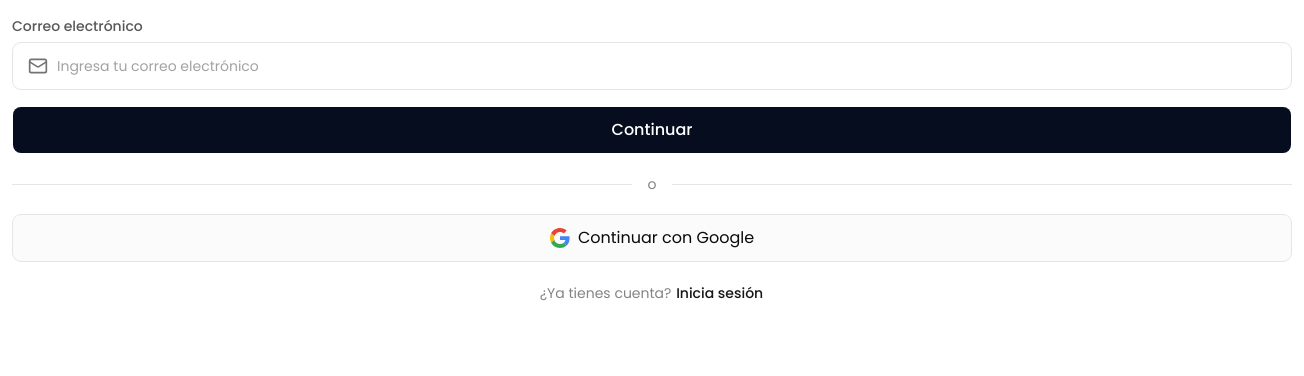
Test: submitting › the second step can go back to fix a mistyped address
The image size is (1304, 376).
Type "ana@ejemplo.com" into the field labelled "Correo electrónico" at (652, 66), box [12,42,1292,90]
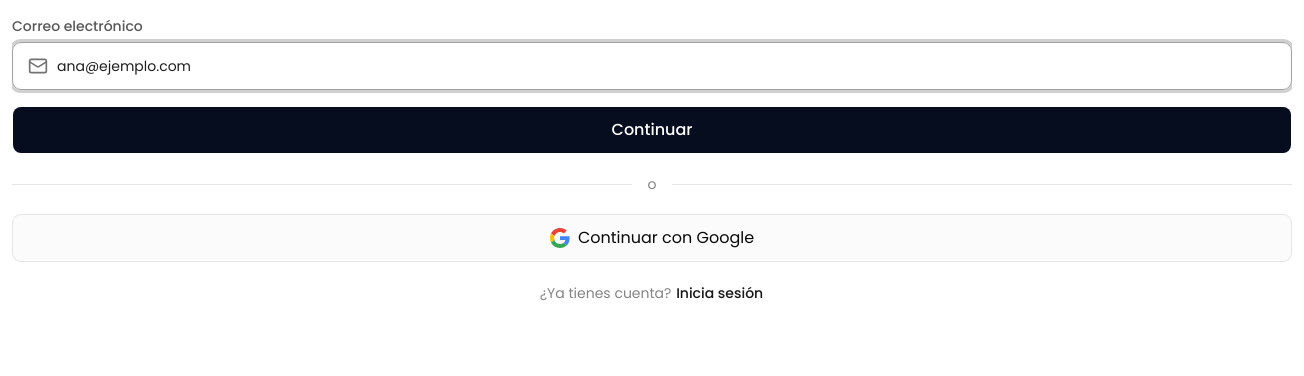
Click the button "Continuar" at (652, 130), box [12,106,1292,154]
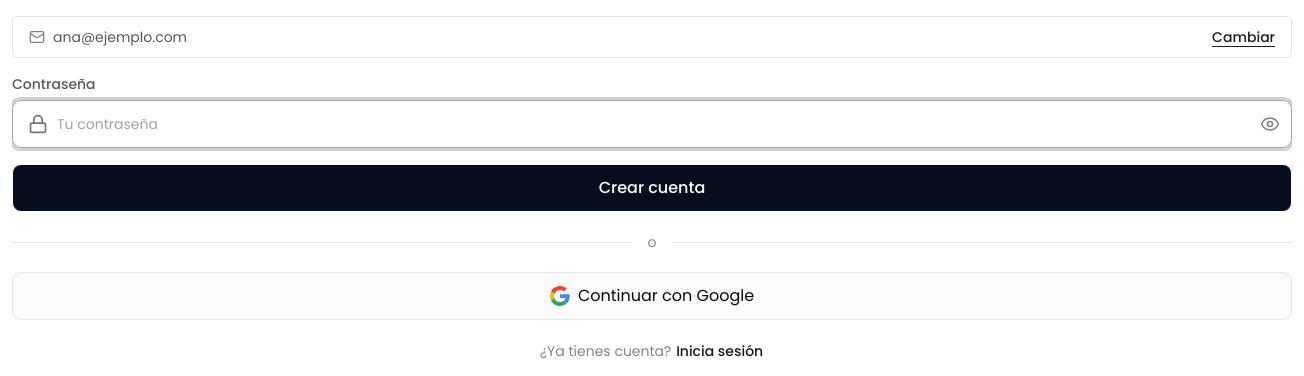
Click the button "Cambiar" at (1244, 37), box [1212,27,1275,47]
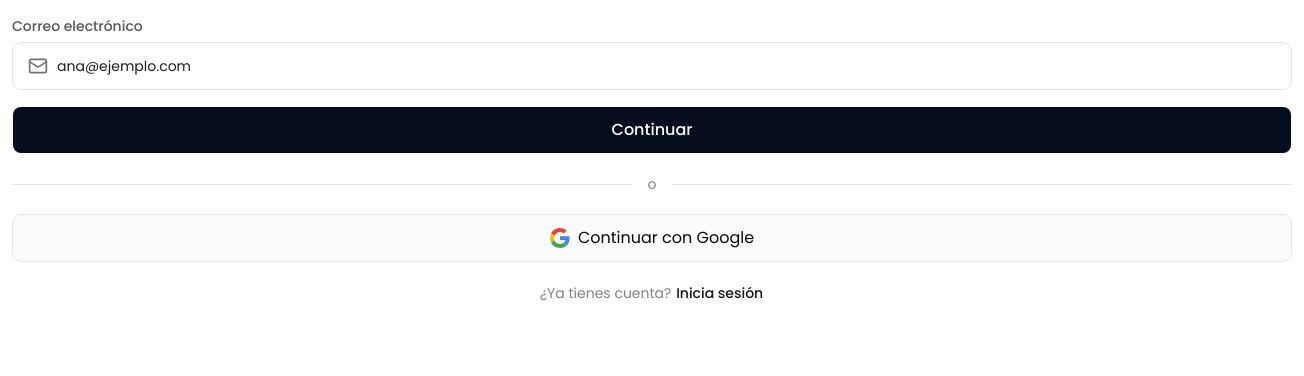
Check: the field labelled "Correo electrónico" holds "ana@ejemplo.com", box [12,42,1292,90]
Check: the label labelled "Contraseña" is gone
